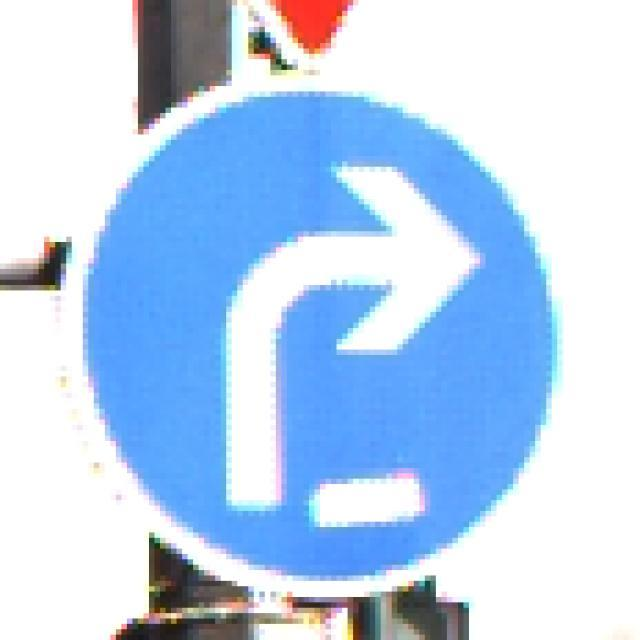compulsary turn right ahead: (52, 71, 634, 607)
